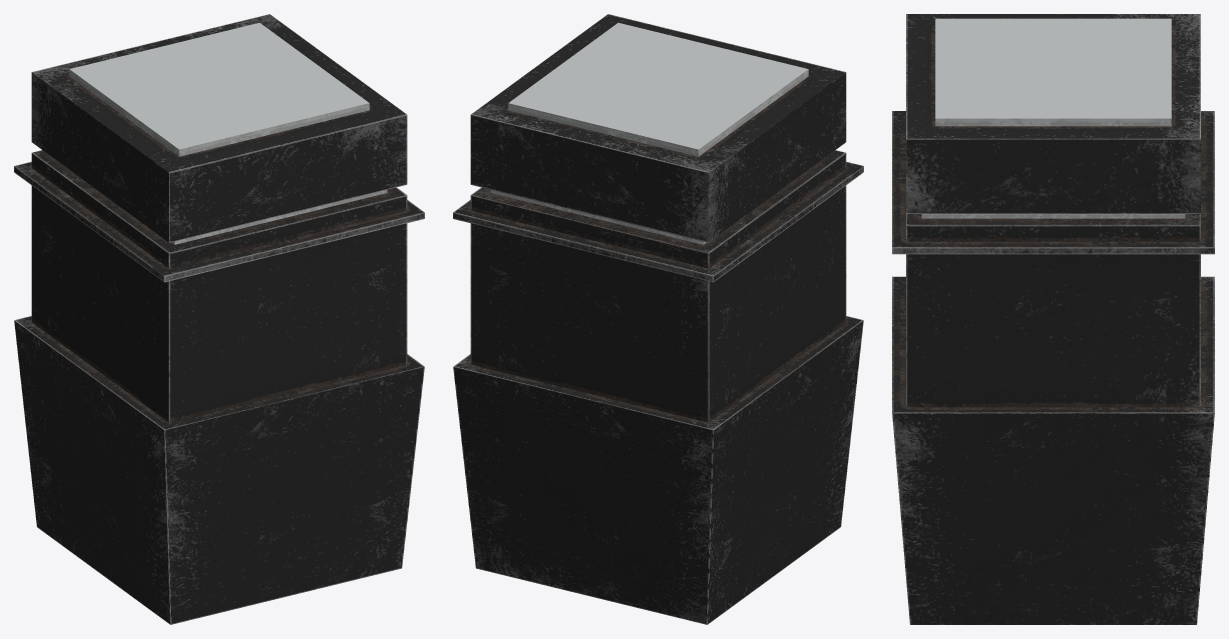
File: Pedestal.gltf
The picture shows the model from 3 angles, left to right: view 1: azimuth 30°, elevation 25°; view 2: azimuth 150°, elevation 25°; view 3: azimuth 270°, elevation 25°; orthographic projection. The views are drawn at different scales.
Parts seen in each view (by area): view 1: pCube1; view 2: pCube1; view 3: pCube1.
Boxes of the visible parts, x1,y1,x2,y2 form: pCube1: [14, 14, 424, 624]; pCube1: [453, 14, 863, 624]; pCube1: [892, 14, 1214, 624].
Size of the model in its own units: 1.03 by 1.75 by 1.03.
1 material, 1 textured.
